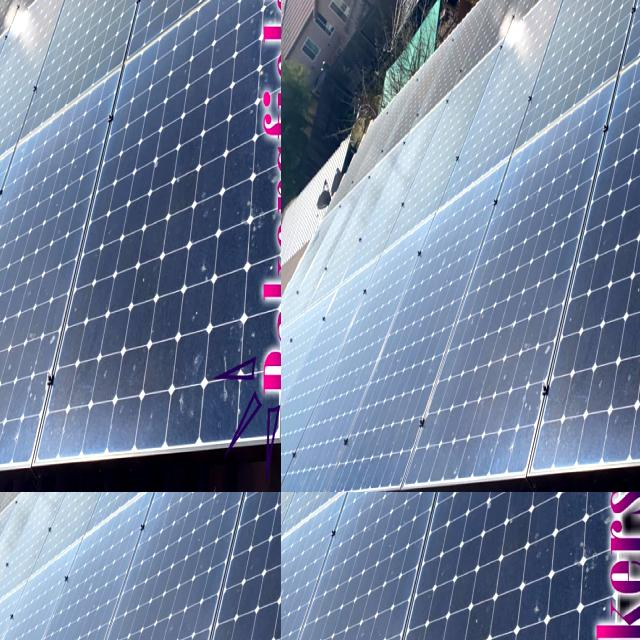crack: (319, 198, 382, 282), (281, 309, 333, 359), (282, 143, 326, 194), (404, 215, 452, 260), (478, 208, 526, 245), (401, 155, 454, 188), (339, 164, 392, 196), (464, 149, 512, 184), (402, 96, 453, 127), (528, 140, 569, 178), (544, 325, 580, 364), (476, 328, 511, 363), (381, 313, 404, 366), (433, 304, 465, 342), (466, 308, 506, 338), (417, 330, 450, 366), (519, 302, 561, 330), (506, 328, 536, 362), (523, 327, 555, 357), (497, 304, 529, 334), (438, 327, 462, 366), (281, 217, 300, 265), (419, 309, 442, 343), (450, 264, 473, 296), (398, 310, 422, 340), (401, 286, 424, 316), (469, 270, 492, 296), (384, 274, 409, 296), (382, 290, 403, 314), (401, 270, 422, 294), (439, 269, 457, 296), (420, 268, 440, 292)
dust: (449, 492, 586, 640), (341, 505, 415, 640)
panel: (88, 492, 185, 561), (173, 492, 246, 533), (248, 492, 281, 563), (180, 492, 225, 532), (146, 492, 191, 523), (0, 492, 41, 521), (0, 492, 39, 518), (0, 492, 33, 522), (50, 492, 79, 522), (106, 492, 138, 519), (37, 492, 73, 514), (36, 492, 71, 514), (0, 492, 28, 518), (0, 492, 18, 525), (108, 492, 147, 506), (0, 492, 15, 522), (61, 492, 76, 502), (0, 492, 9, 502)
